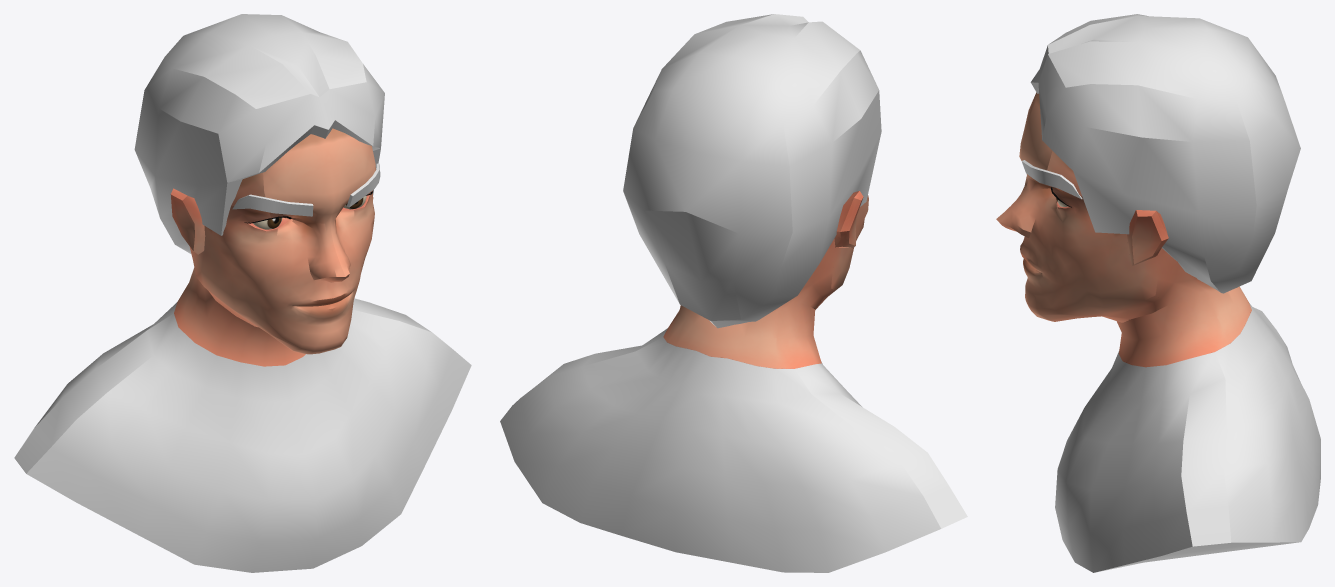
The model's file is Male_Avatar_NoColors.fbx.
3 views of the same model, side by side, from view 1: azimuth 30°, elevation 25°; view 2: azimuth 150°, elevation 25°; view 3: azimuth 270°, elevation 25° (orthographic). The views are drawn at different scales.
Parts seen in each view (by area): view 1: Male Head, Male Hair, Eyebrow.001; view 2: Male Head, Male Hair; view 3: Male Head, Male Hair, Eyebrow.001.
Part boxes in pixels (x1,y1,x2,y2): Male Head: (14, 128, 471, 572); Male Hair: (134, 14, 384, 253); Eyebrow.001: (232, 163, 380, 216); Male Head: (500, 191, 967, 572); Male Hair: (623, 14, 881, 328); Male Head: (996, 92, 1320, 572); Male Hair: (1030, 14, 1300, 293); Eyebrow.001: (1021, 160, 1082, 199).
Bounding box in the file's own units: 51.65 × 55.75 × 32.06.
Materials: 3 (1 with a texture image).
